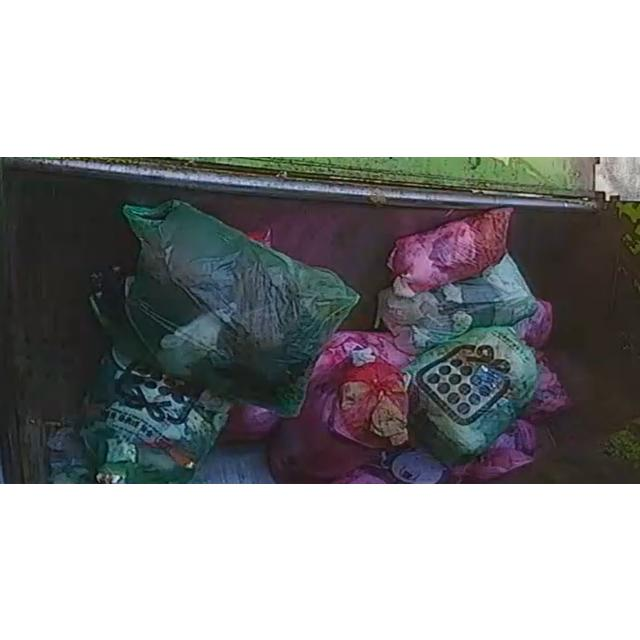general_trashbag: (122, 198, 359, 416), (80, 347, 231, 482), (406, 326, 538, 455), (375, 254, 536, 354)
other_trashbag: (269, 330, 414, 482), (388, 206, 514, 295)
